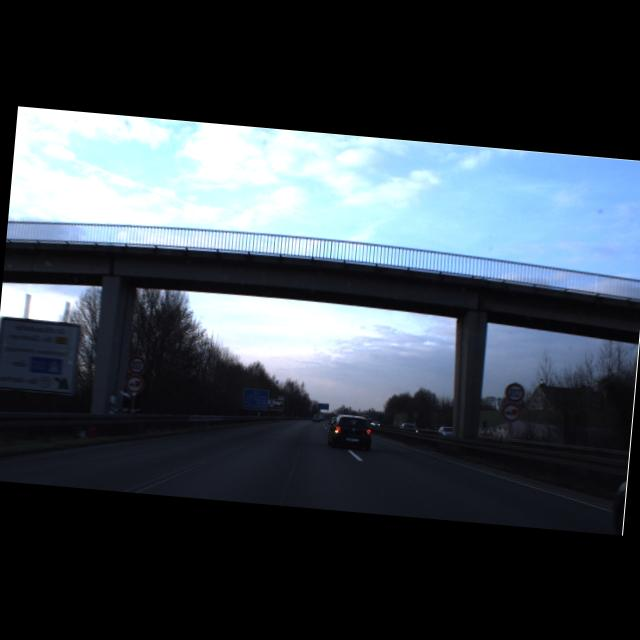prohibitory: (124, 372, 146, 393), (504, 381, 526, 402), (127, 353, 148, 374), (502, 401, 522, 422)
